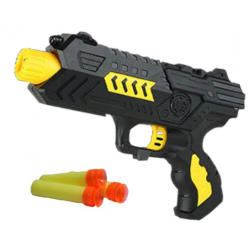Arma Falsa: (14, 27, 246, 215)
